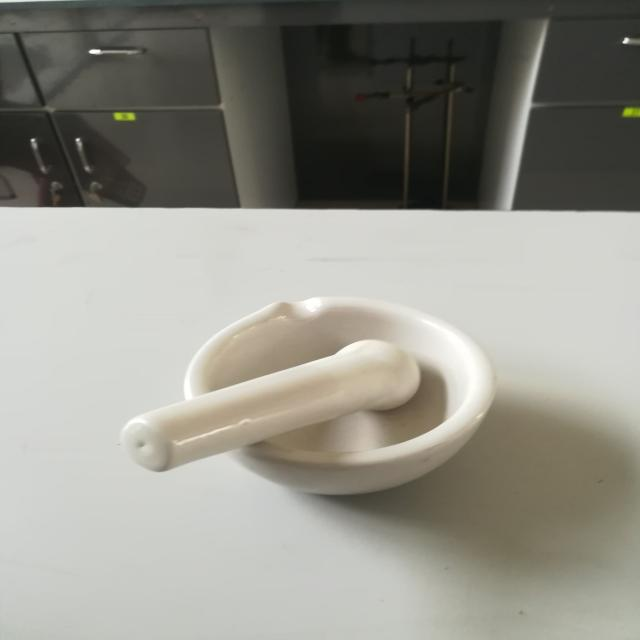Porcelain_Mortar Pestle: (89, 270, 548, 536)
